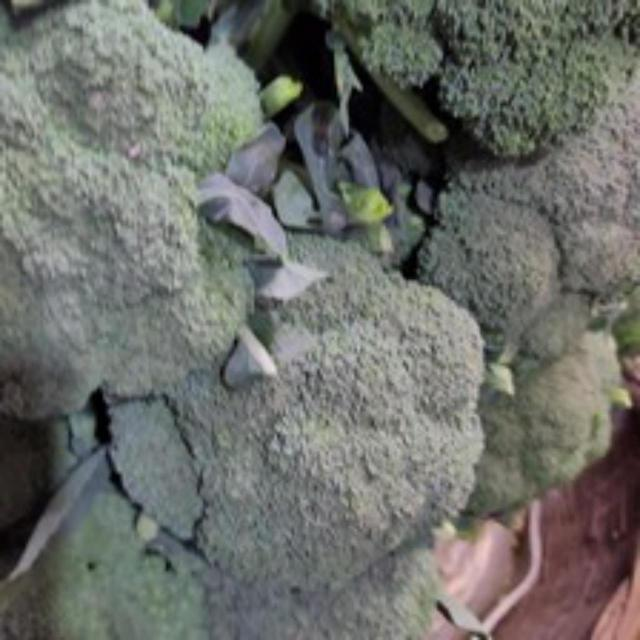broccoli: (0, 0, 274, 440)
